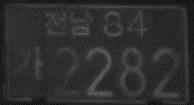2: (152, 46, 181, 99), (85, 45, 114, 97), (51, 45, 80, 96)
4: (126, 10, 148, 37)
8: (118, 46, 147, 98), (102, 10, 124, 37)
가: (11, 44, 44, 81)
전남_O: (44, 10, 94, 36)
